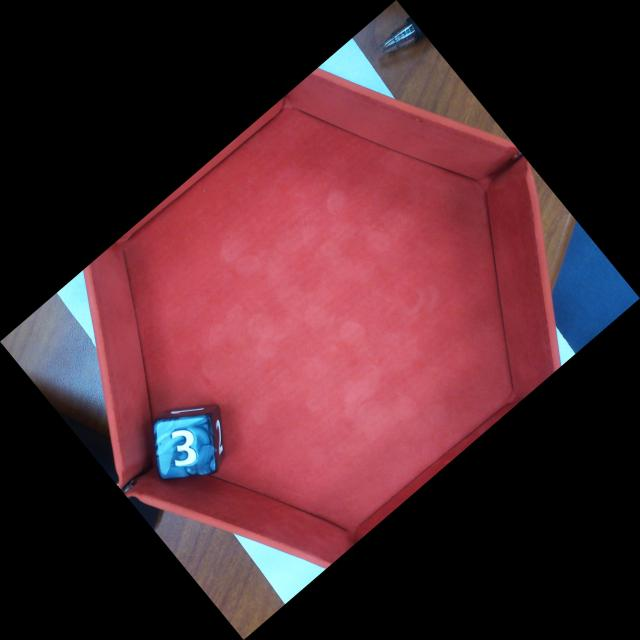dice: (158, 415, 215, 478)
